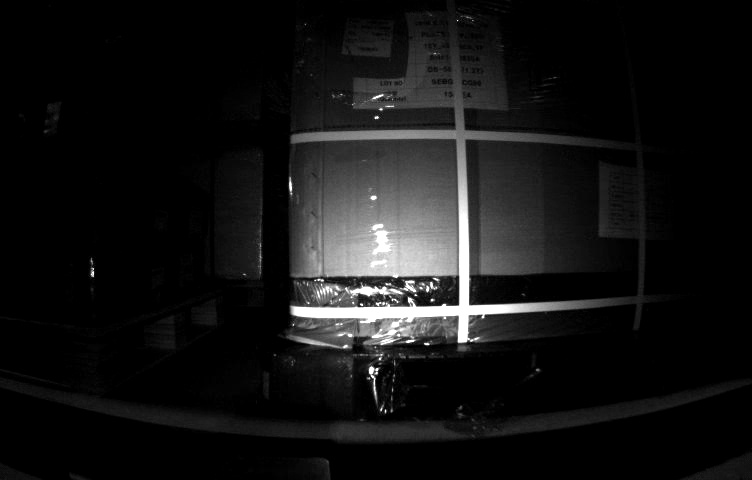True Barcode: (339, 14, 392, 59)
